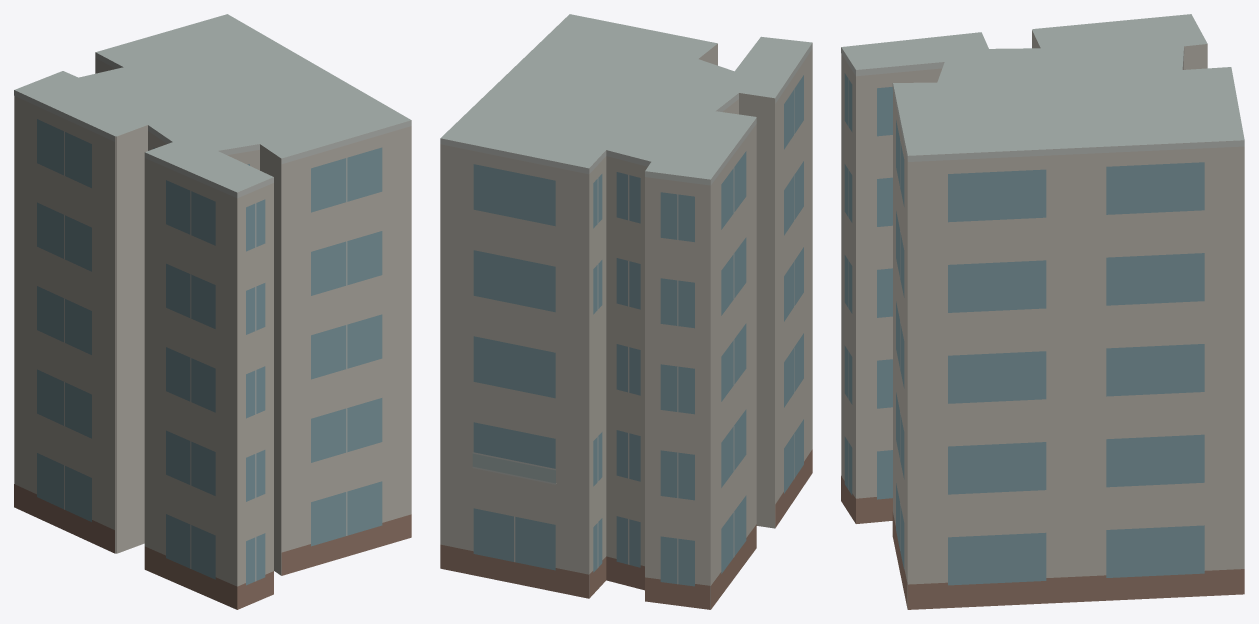
File: survey-upis-32493770.glb
3 views of the same model, side by side, from view 1: azimuth 30°, elevation 25°; view 2: azimuth 150°, elevation 25°; view 3: azimuth 270°, elevation 25° (orthographic). The views are drawn at different scales.
Visible parts, largest first — view 1: survey-upis-32493770.tmp; view 2: survey-upis-32493770.tmp; view 3: survey-upis-32493770.tmp.
Boxes of the visible parts, bbox=[...] form: survey-upis-32493770.tmp: bbox=[14, 14, 411, 609]; survey-upis-32493770.tmp: bbox=[440, 14, 812, 609]; survey-upis-32493770.tmp: bbox=[841, 14, 1244, 609].
Bounding box in the file's own units: 11.83 × 17.65 × 14.23.
